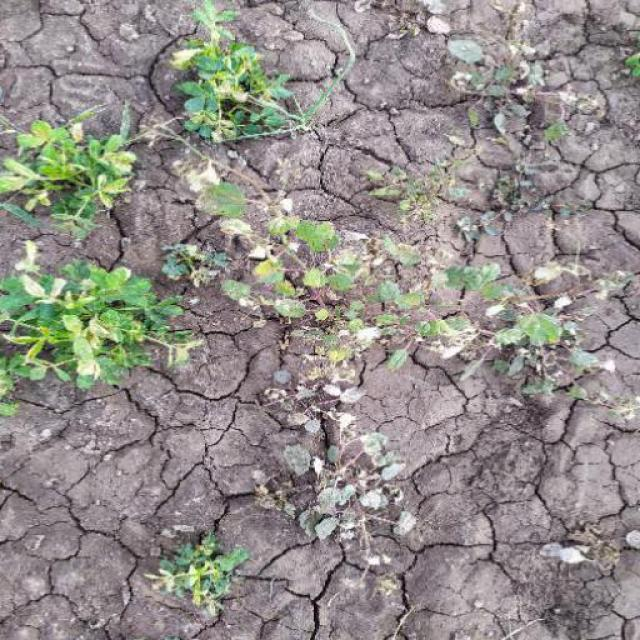weed: (190, 174, 606, 431), (12, 46, 172, 392), (424, 10, 640, 132), (136, 9, 306, 139)
